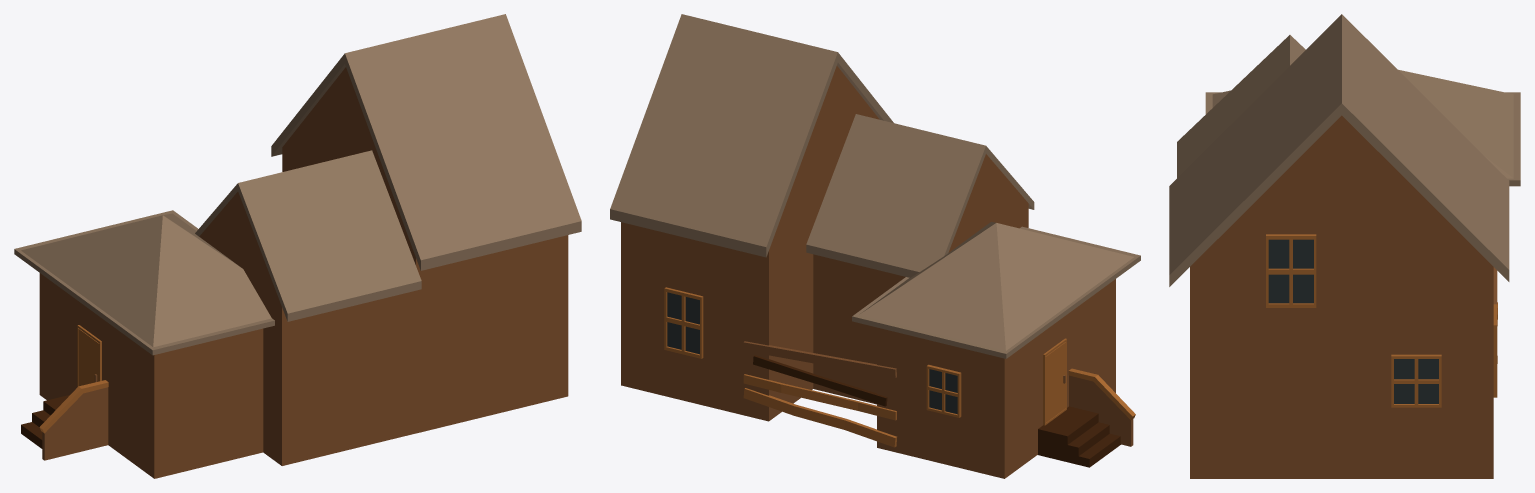
Rendered from казарма1.fbx.
3 renders of one model, left to right at view 1: azimuth 30°, elevation 25°; view 2: azimuth 150°, elevation 25°; view 3: azimuth 270°, elevation 25°, orthographic. The views are drawn at different scales.
Visible parts, largest first — view 1: Cube.002; view 2: Cube.002; view 3: Cube.002.
Part boxes in pixels (left/top/right/bottom): Cube.002: left=14, top=14, right=581, bottom=478; Cube.002: left=610, top=14, right=1140, bottom=478; Cube.002: left=1169, top=14, right=1520, bottom=478.
Size of the model in its own units: 6.12 by 4.18 by 3.52.
